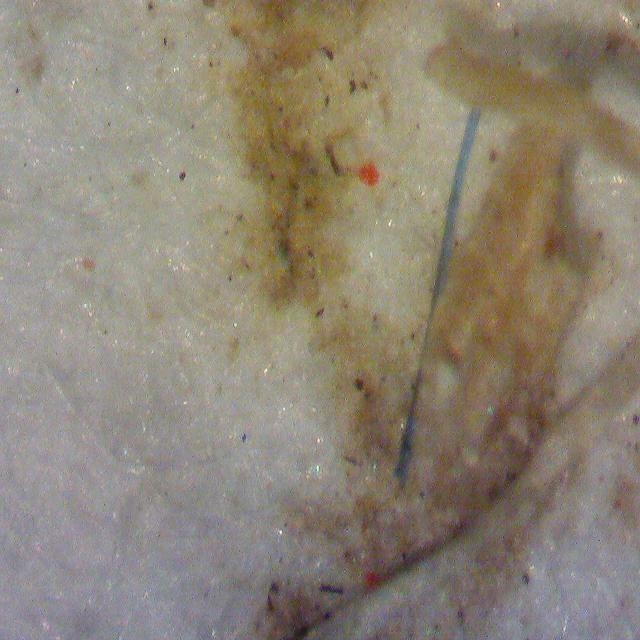microplastic: (395, 105, 483, 481)
